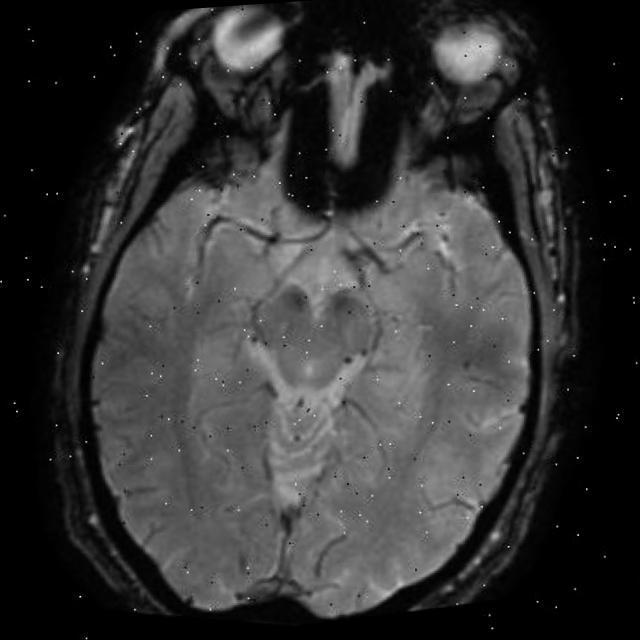MCI: (372, 184, 506, 340), (177, 174, 293, 310)
